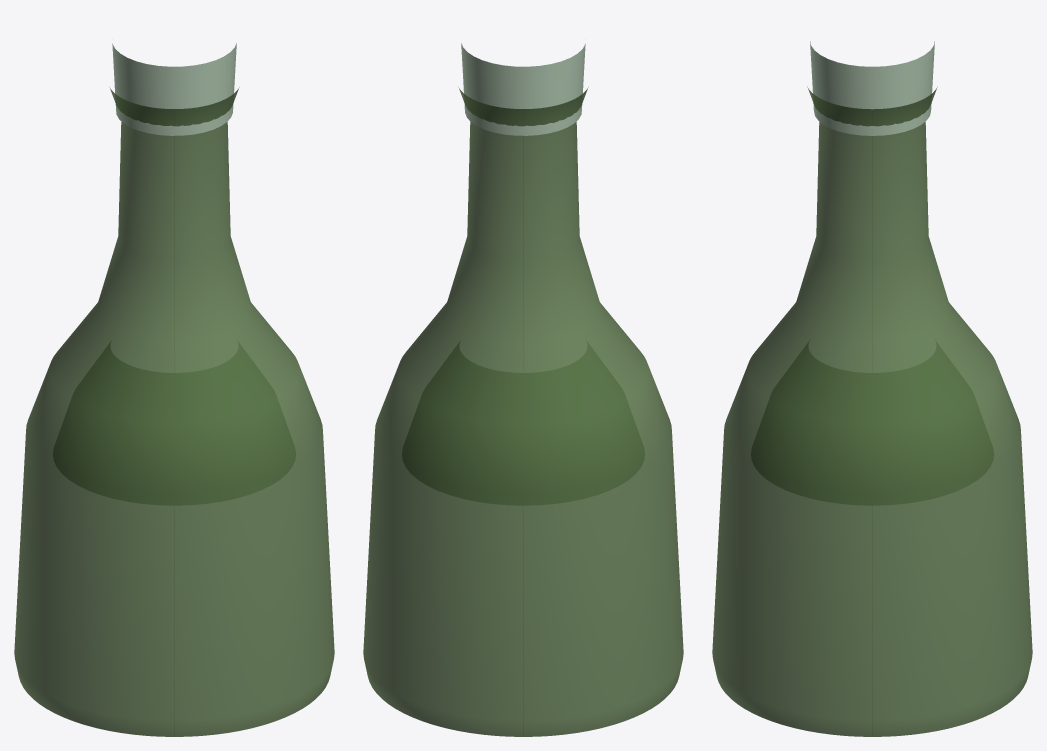
File: monkey-47.glb
The picture shows the model from 3 angles, left to right: view 1: azimuth 30°, elevation 25°; view 2: azimuth 150°, elevation 25°; view 3: azimuth 270°, elevation 25°; orthographic projection.
Visible parts, largest first — view 1: body, cap; view 2: body, cap; view 3: body, cap.
Part boxes in pixels (<box>): body: <box>14,87,334,736</box>; cap: <box>112,43,236,135</box>; body: <box>363,87,683,736</box>; cap: <box>461,43,585,135</box>; body: <box>712,86,1032,736</box>; cap: <box>810,41,934,135</box>.
Size of the model in its own units: 0.41 by 0.8905 by 0.41.
